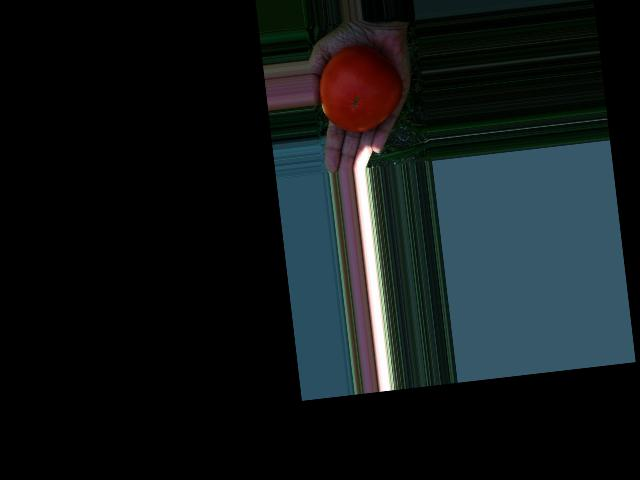tomato: (315, 41, 407, 136)
